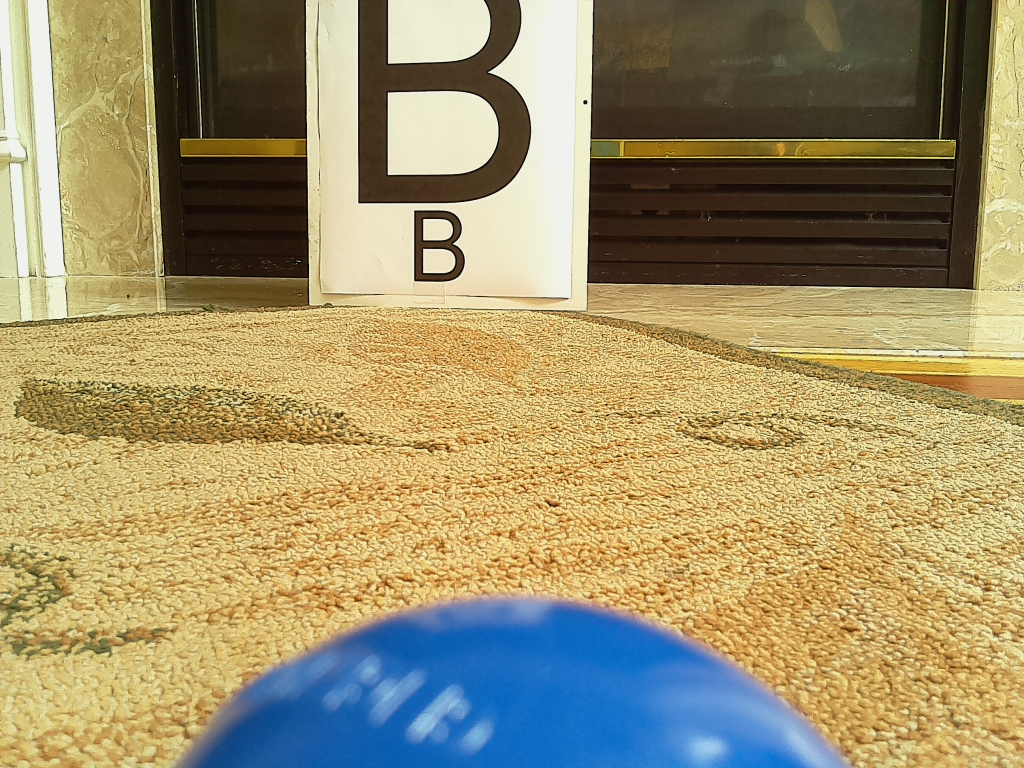letter: (358, 1, 531, 203)
